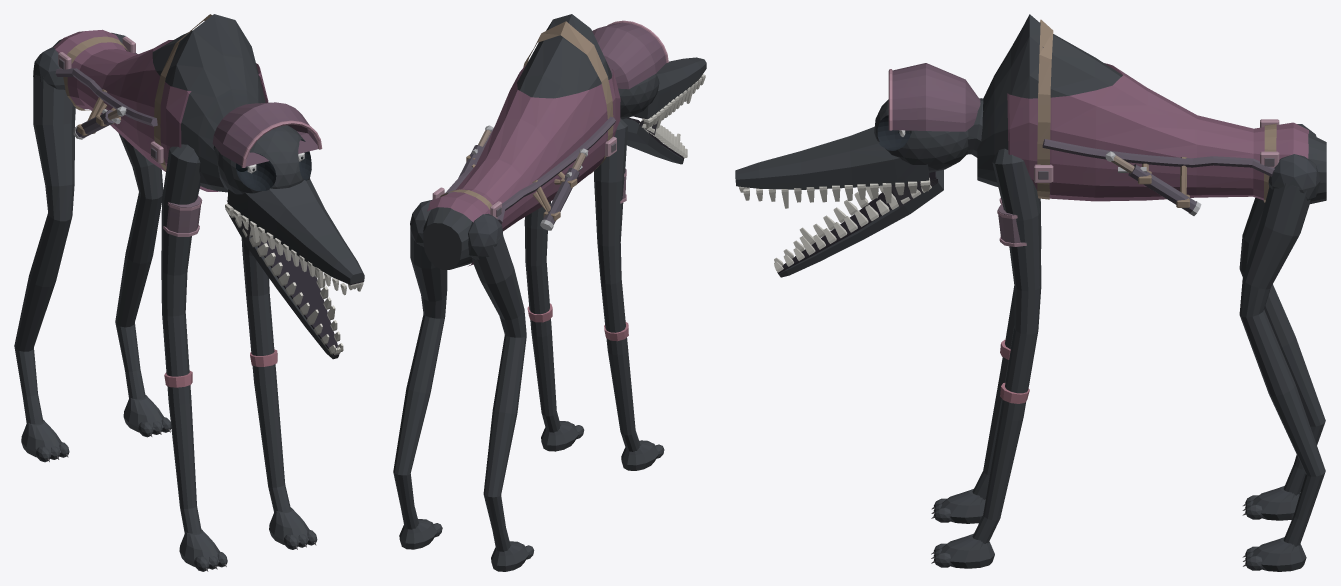
File: LongmawAssassin.glb
The picture shows the model from 3 angles, left to right: view 1: azimuth 30°, elevation 25°; view 2: azimuth 150°, elevation 25°; view 3: azimuth 270°, elevation 25°; orthographic projection. The views are drawn at different scales.
Parts seen in each view (by area): view 1: Body, Head, LegR, ArmR, LegL, ArmL; view 2: Body, LegR, Head, ArmR, LegL, ArmL; view 3: Body, Head, LegL, ArmL, LegR, ArmR.
Boxes of the visible parts, <box> form: Body: <box>52,14,268,192</box>; Head: <box>212,102,364,359</box>; LegR: <box>14,47,75,462</box>; ArmR: <box>161,144,227,571</box>; LegL: <box>111,32,171,437</box>; ArmL: <box>241,238,317,549</box>; Body: <box>423,14,620,269</box>; LegR: <box>468,213,534,571</box>; Head: <box>592,20,706,164</box>; ArmR: <box>594,118,664,470</box>; LegL: <box>393,199,447,549</box>; ArmL: <box>524,201,584,451</box>; Body: <box>977,14,1326,215</box>; Head: <box>735,63,983,277</box>; LegL: <box>1239,154,1325,571</box>; ArmL: <box>931,148,1041,568</box>; LegR: <box>1239,124,1325,520</box>; ArmR: <box>931,198,1041,523</box>.
Bounding box in the file's own units: 1.9 × 6.9 × 7.03.
